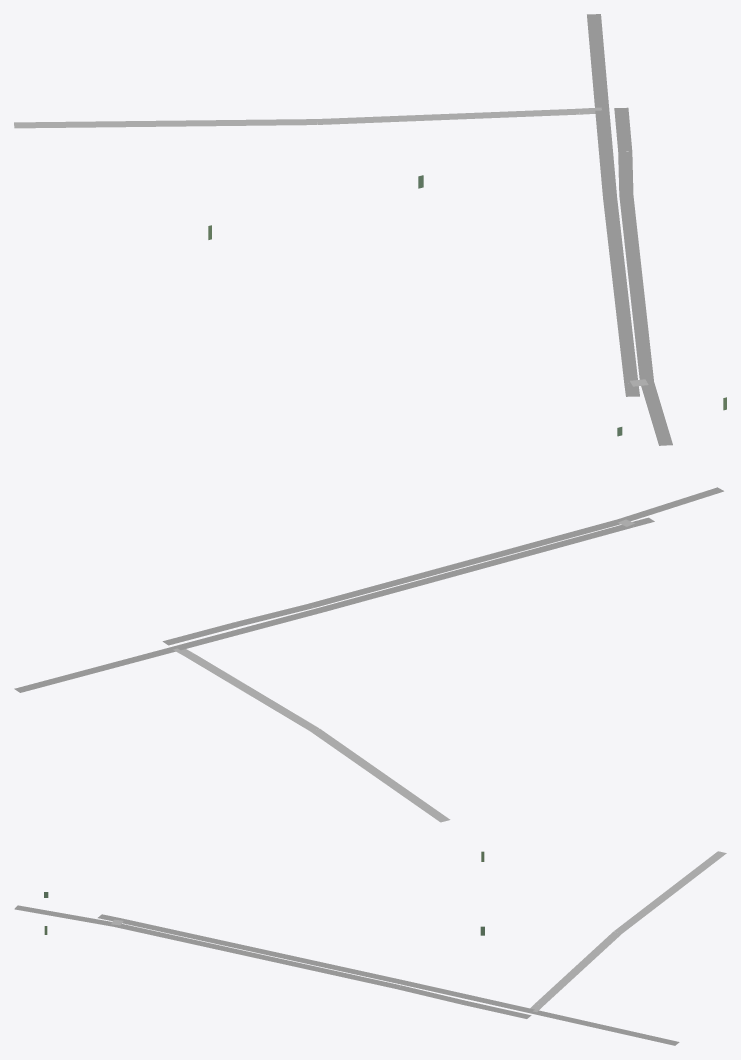
3 renders of one model, top to bottom at view 1: azimuth 30°, elevation 25°; view 2: azimuth 150°, elevation 25°; view 3: azimuth 270°, elevation 25°, orthographic. The views are drawn at different scales.
Size of the model in its own units: 317 by 8.09 by 490.
